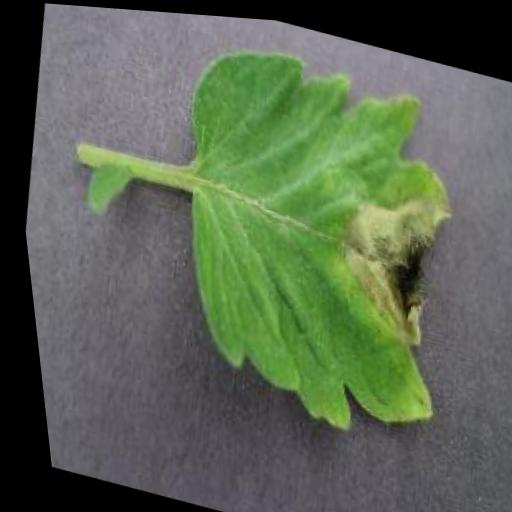Late Blight: (126, 21, 498, 459)
